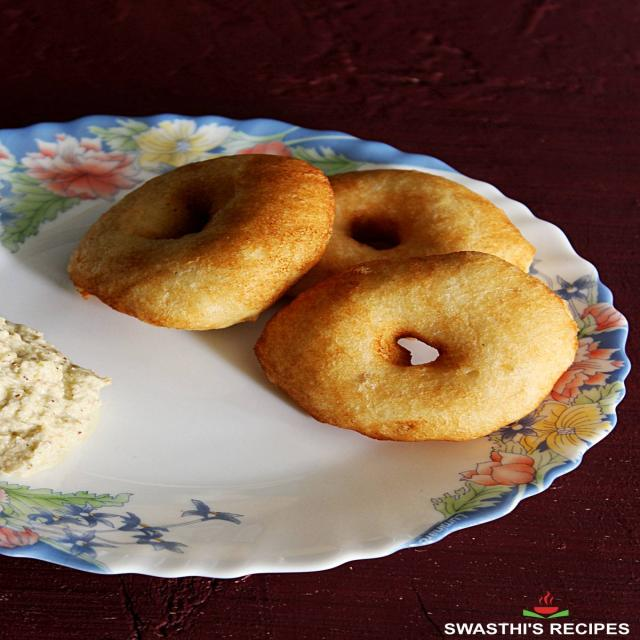MEDU VADA: (260, 257, 574, 450), (78, 158, 348, 331), (288, 169, 527, 293)
